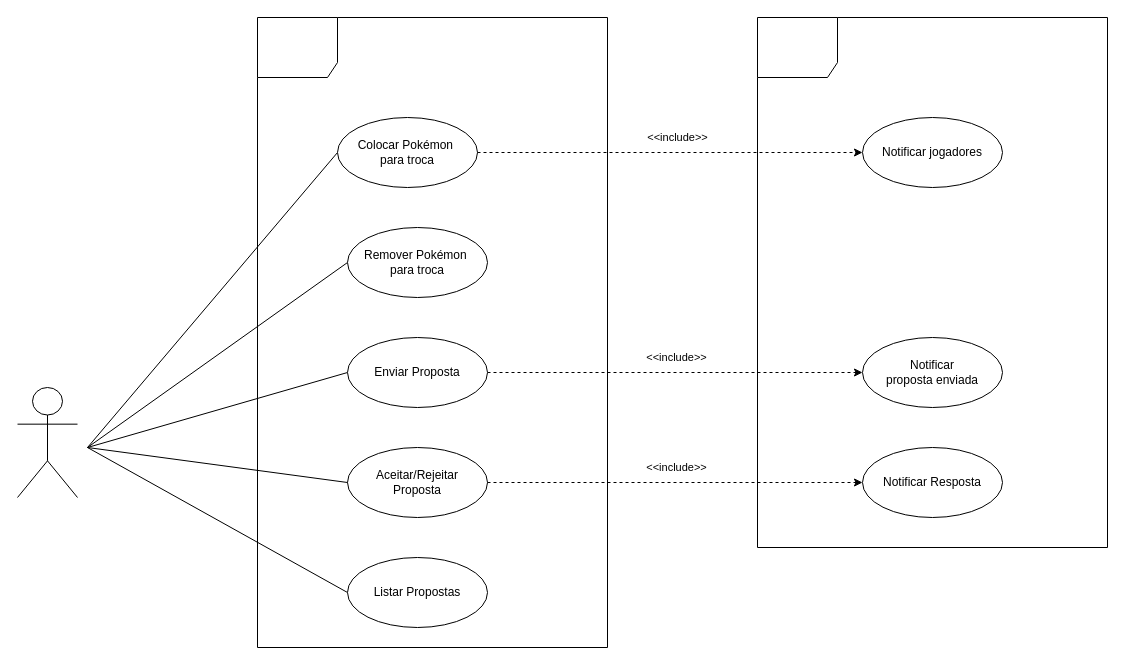
Some shapes in this 1125 by 665 pixel diagram are drawn without their labels. Here are the shapes that lost their labels. From the top down, the box of each, then its label:
(756, 16, 1108, 548): Módulo de Notificação
(256, 16, 608, 648): Módulo de Troca
(16, 386, 78, 498): Jogador
